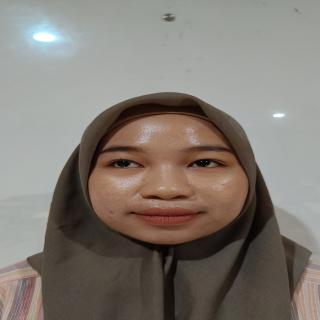Netral: (74, 106, 249, 252)
